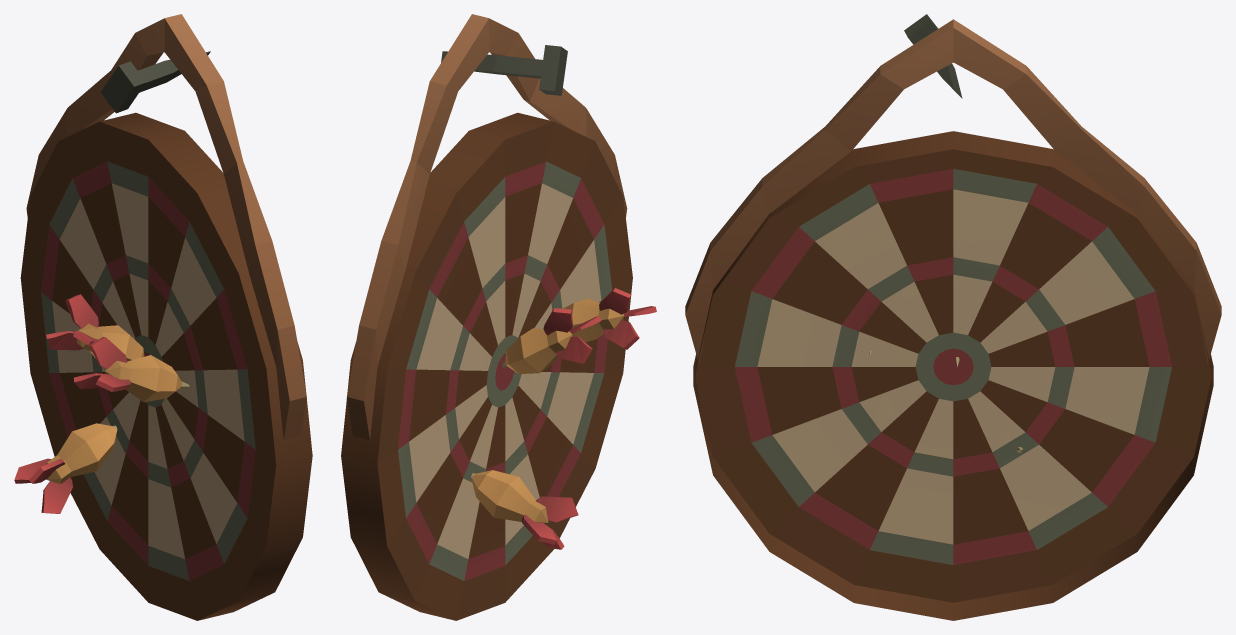
File: SM_Dartboard.fbx
3 renders of one model, left to right at view 1: azimuth 30°, elevation 25°; view 2: azimuth 150°, elevation 25°; view 3: azimuth 270°, elevation 25°, orthographic.
Parts seen in each view (by area): view 1: Dartboard; view 2: Dartboard; view 3: Dartboard.
Part boxes in pixels (bbox=[...]): Dartboard: bbox=[14, 14, 312, 620]; Dartboard: bbox=[341, 14, 656, 620]; Dartboard: bbox=[685, 14, 1221, 620].
Bounding box in the file's own units: 34.28 × 93.6 × 114.
